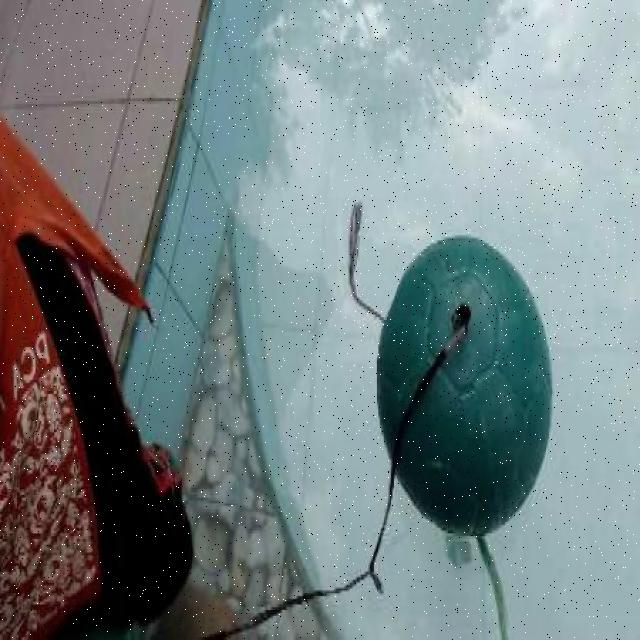buoy: (376, 236, 553, 535)
